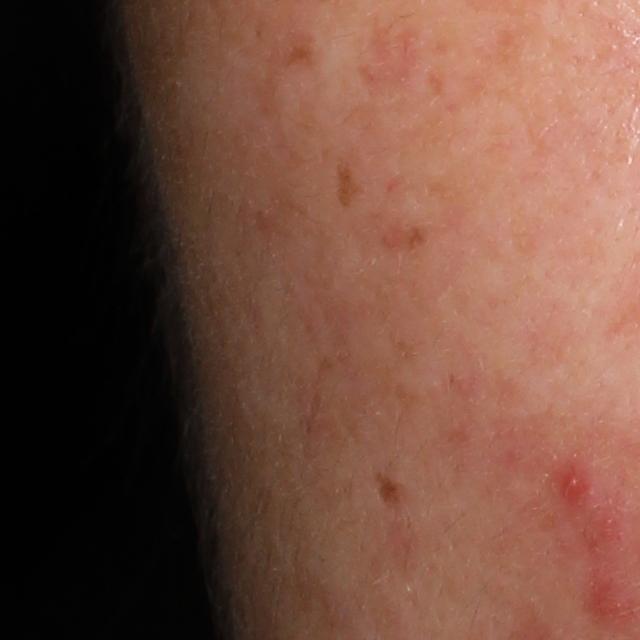melasma: (332, 157, 373, 213)
papule: (588, 571, 637, 630), (554, 462, 590, 504)
